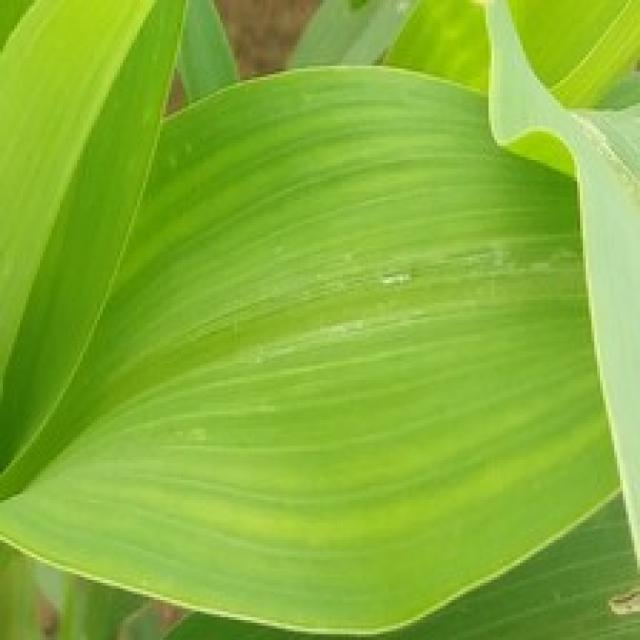Corn: (0, 0, 637, 637), (477, 0, 637, 637)
